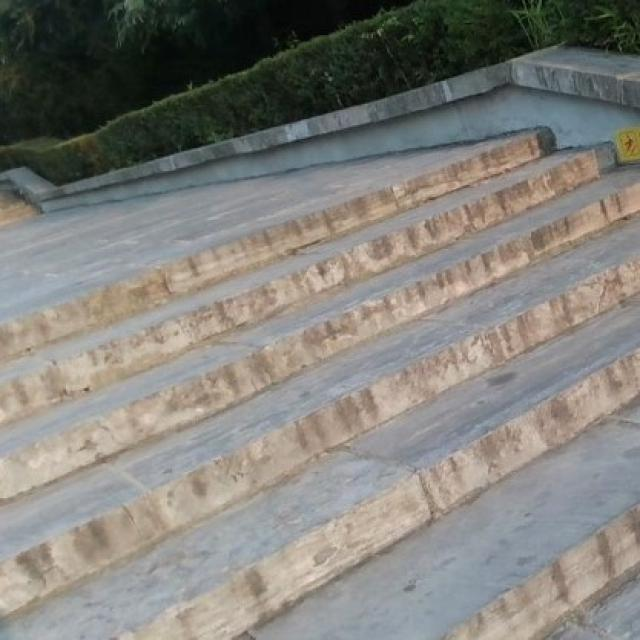Stairs: (0, 119, 638, 638)
